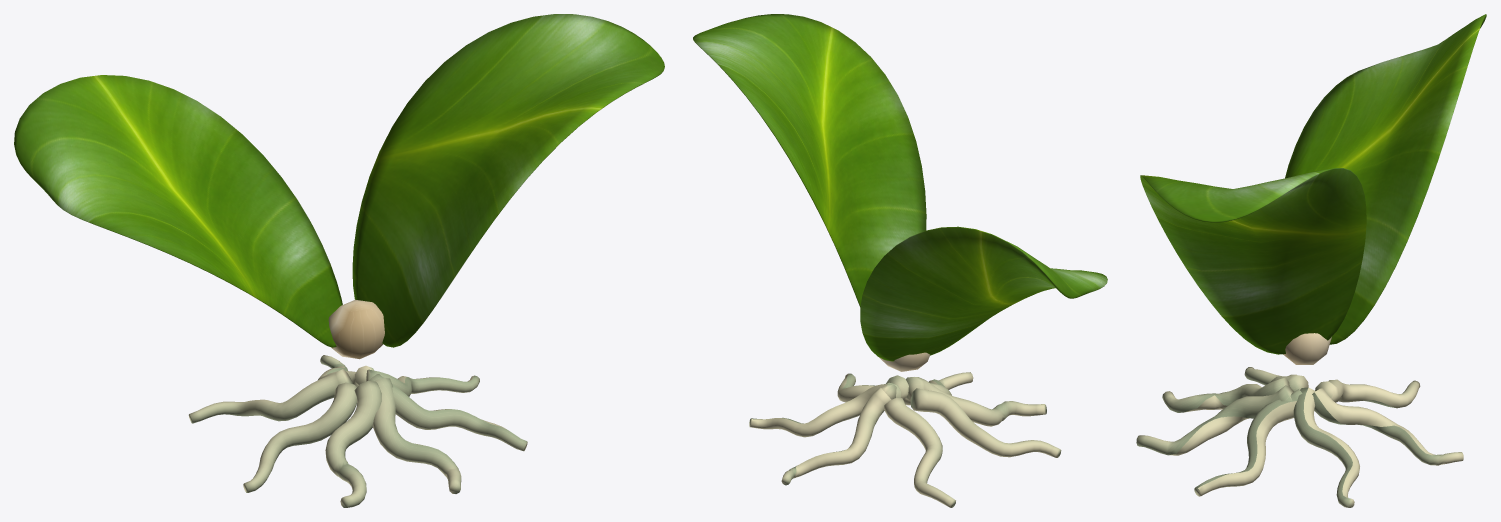
Rendered from NP_Orchid_Sprout.fbx.
3 renders of one model, left to right at view 1: azimuth 30°, elevation 25°; view 2: azimuth 150°, elevation 25°; view 3: azimuth 270°, elevation 25°, orthographic. The views are drawn at different scales.
Parts seen in each view (by area): view 1: NP_Orchid_Sprout; view 2: NP_Orchid_Sprout; view 3: NP_Orchid_Sprout.
Part boxes in pixels (bbox=[...]): NP_Orchid_Sprout: bbox=[14, 14, 664, 507]; NP_Orchid_Sprout: bbox=[693, 14, 1107, 507]; NP_Orchid_Sprout: bbox=[1136, 14, 1486, 507].
Size of the model in its own units: 32.13 by 22.16 by 19.31.
